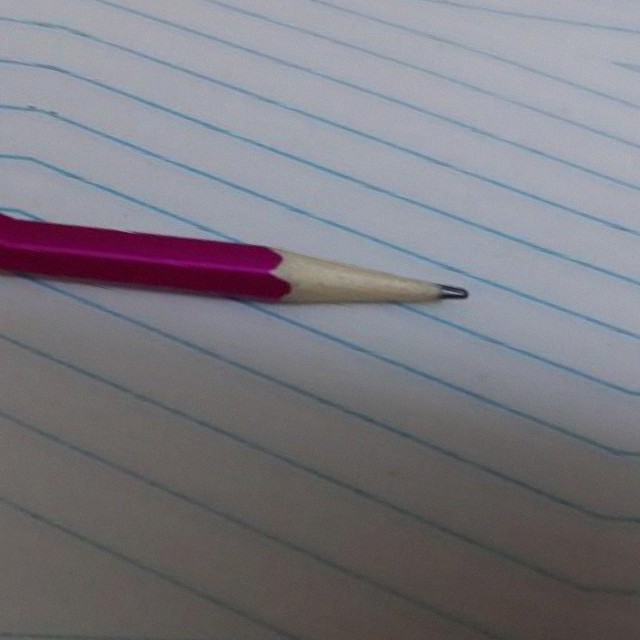pencil: (248, 226, 471, 336)
